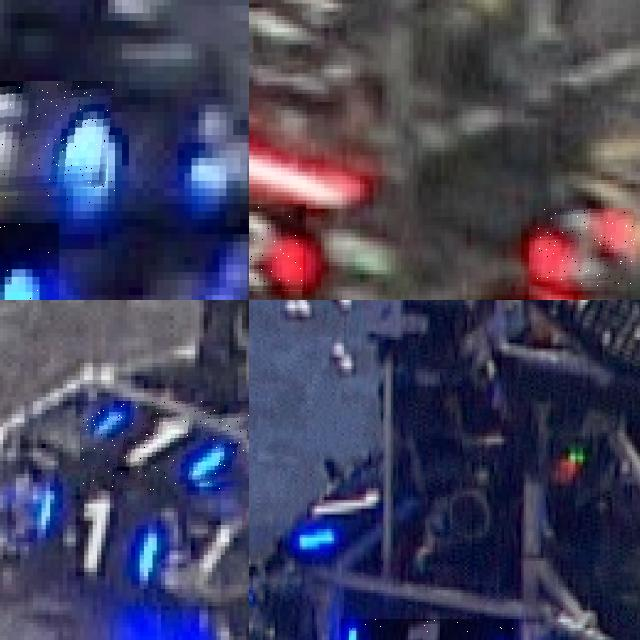B1: (80, 401, 249, 490), (29, 482, 170, 585), (341, 619, 513, 640)
B5: (0, 81, 115, 203)
R2: (529, 208, 635, 286), (249, 204, 306, 290)
